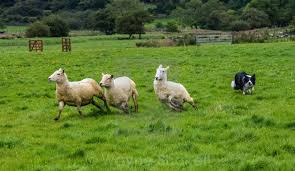sheep: (49, 71, 105, 118), (152, 61, 197, 111), (103, 75, 143, 116)
